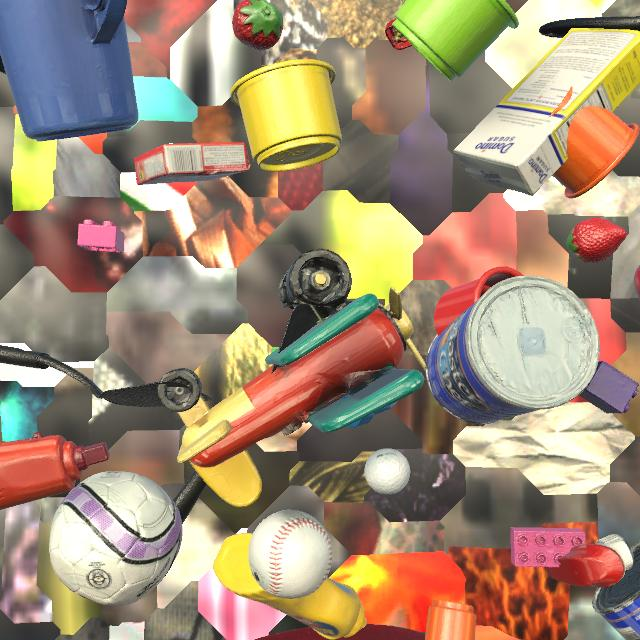ycb_002_master_chef_can: (425, 275, 600, 424), (592, 541, 640, 640)
ycb_004_sugar_box: (454, 28, 640, 196)
ycb_006_mustard_bottle: (213, 533, 367, 640)
ycb_009_gelatin_box: (134, 142, 250, 185)
ycb_012_strawberry: (567, 218, 627, 263), (232, 0, 283, 51)
ycb_013_apple: (634, 265, 640, 299)
